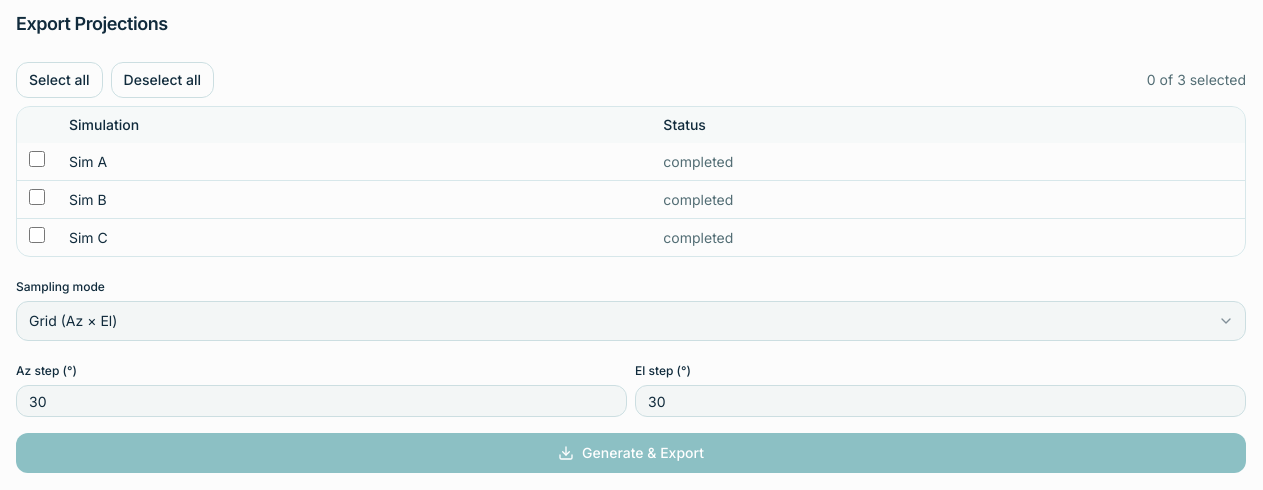
Scenario: BatchProjectionExportPanel — counter (T5.4) › shows "1 of 3 selected" after clicking one sim
Click the checkbox named "Select Sim A".
click(37, 159)  # box [29, 151, 45, 167]
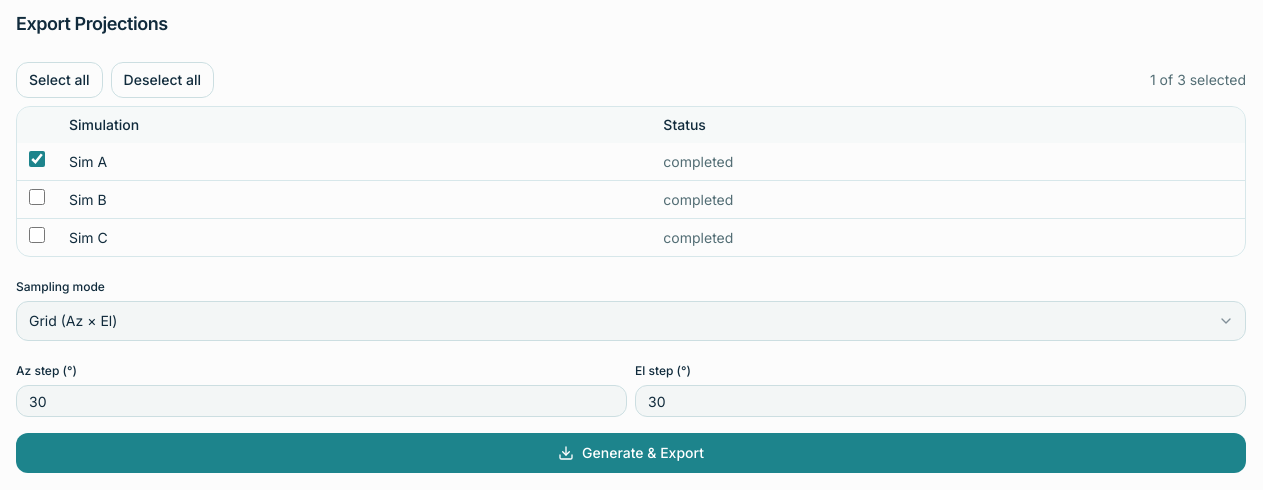
Check: the text "1 of 3 selected" is shown, box [1150, 70, 1246, 90]
